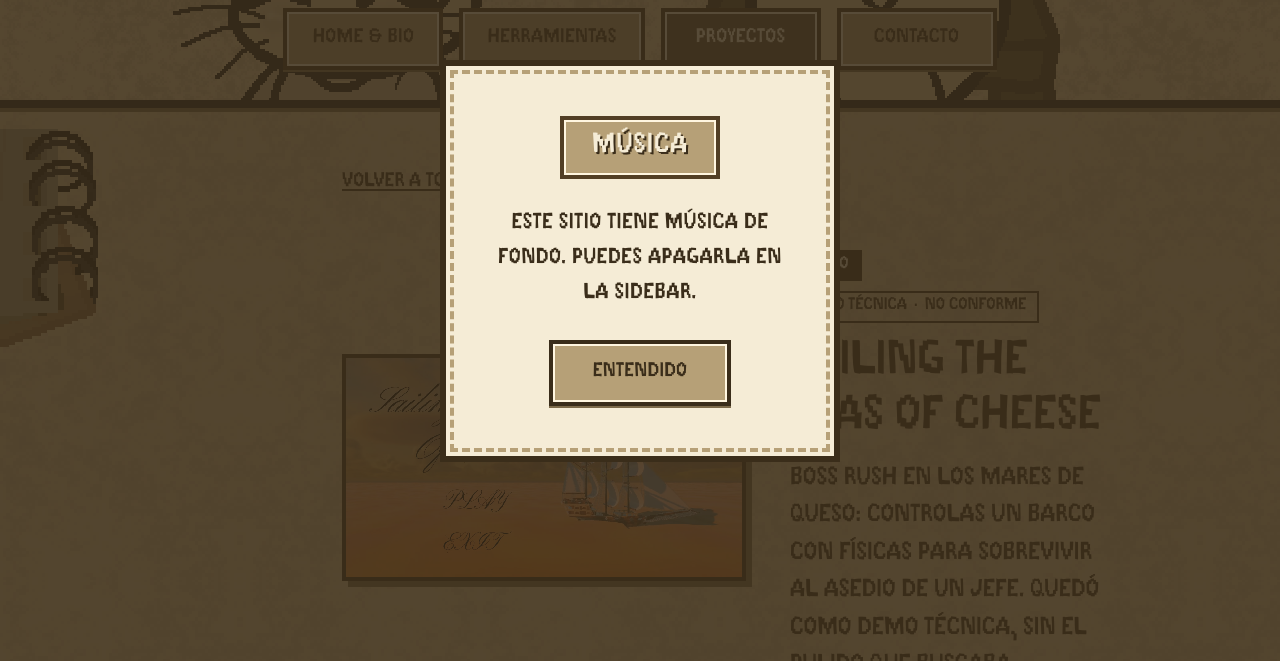
Scenario: opens the viewer on the clicked image and walks across sections
This screenshot has width=1280, height=661.
Click the button "Entendido" at (640, 373), box x1=549 y1=340 x2=731 y2=406
(page scrolled)
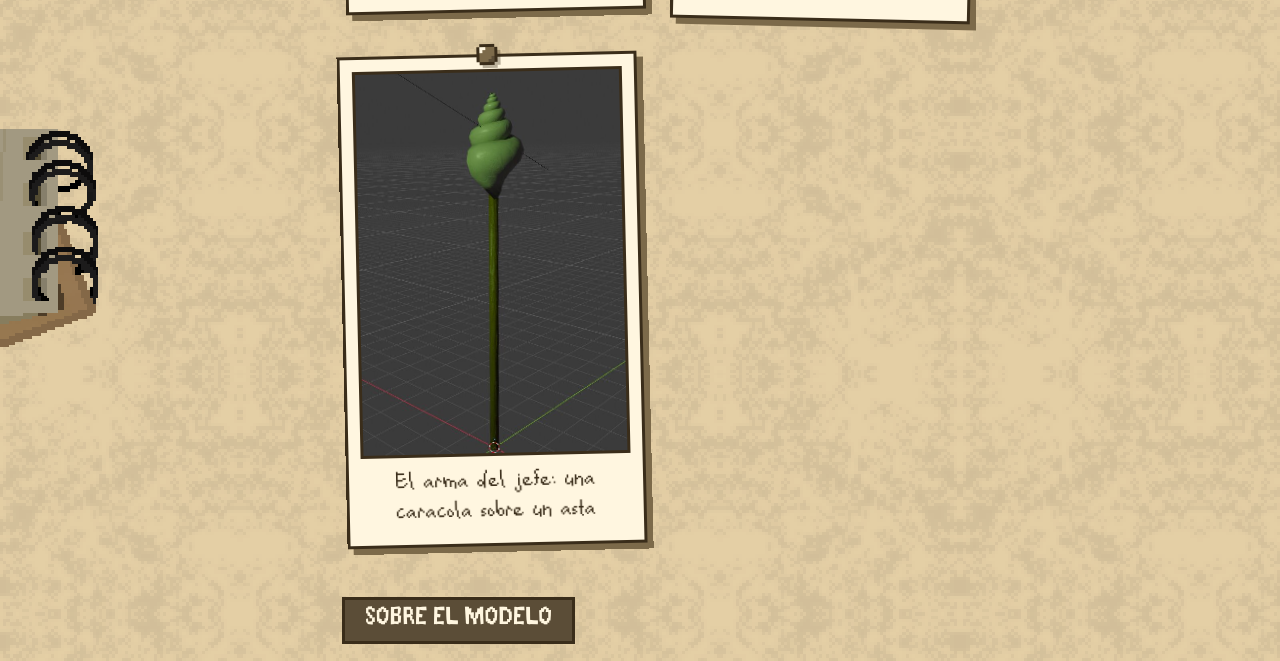
Click the button named "Ampliar: El arma del jefe: una caracola sobre un asta" at (491, 262), box x1=352 y1=66 x2=630 y2=458
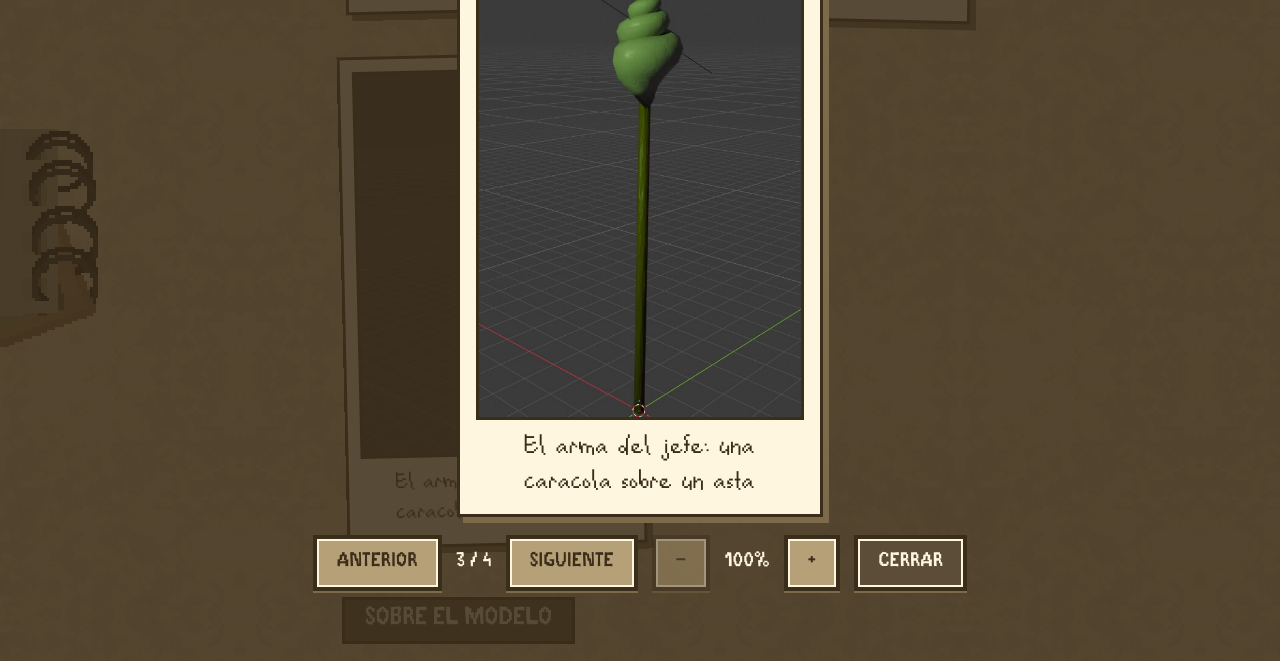
Check: the text "3 / 4" is shown, box x1=456 y1=548 x2=492 y2=578
Click the button "Siguiente" at (572, 563), box x1=506 y1=535 x2=638 y2=591
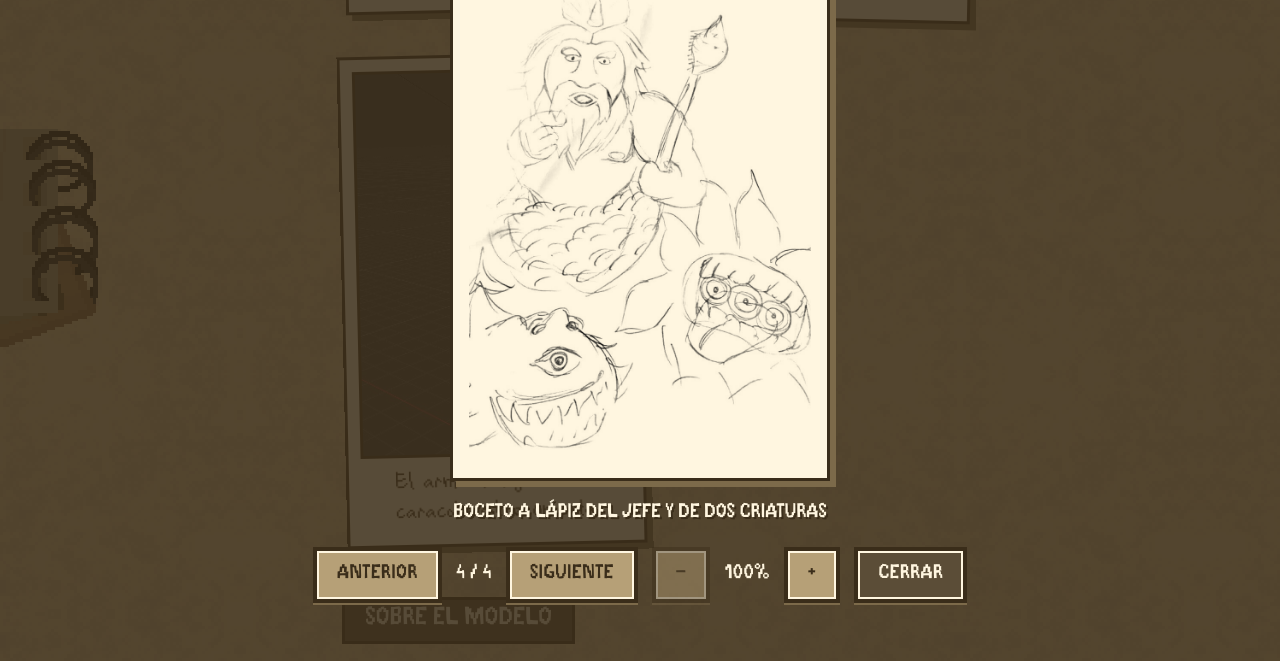
Check: the text "4 / 4" is shown, box x1=456 y1=560 x2=492 y2=590
